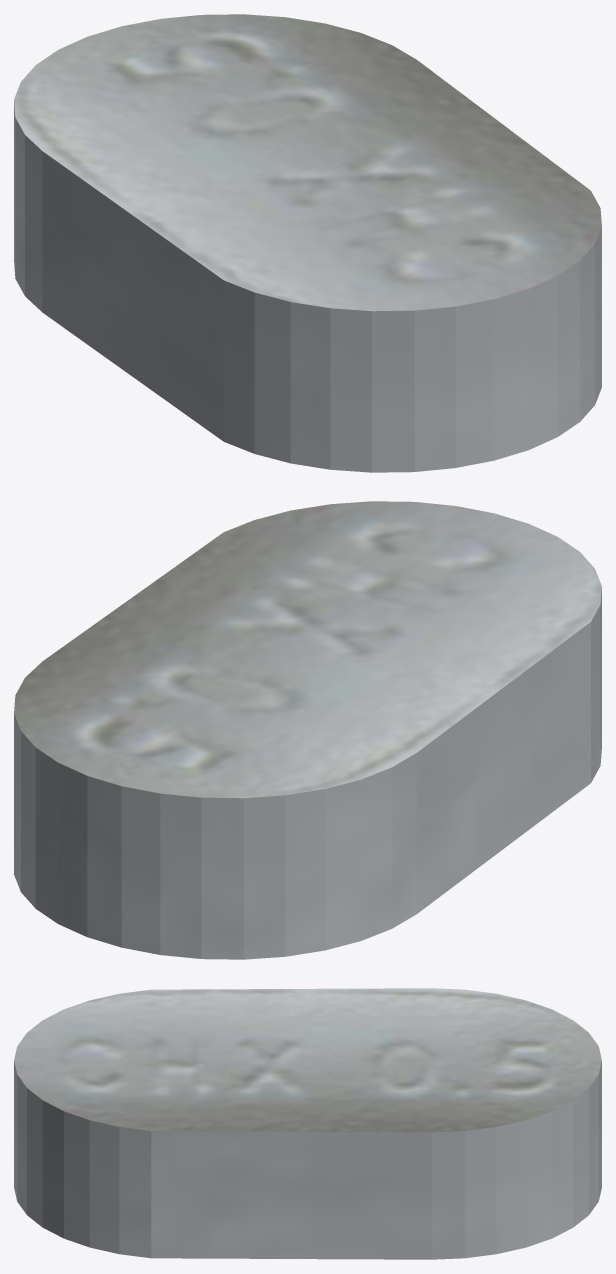
3 renders of one model, top to bottom at view 1: azimuth 30°, elevation 25°; view 2: azimuth 150°, elevation 25°; view 3: azimuth 270°, elevation 25°, orthographic. The views are drawn at different scales.
Visible parts, largest first — view 1: 圓柱體; view 2: 圓柱體; view 3: 圓柱體.
Part boxes in pixels (box(x1,y1,x2,y2)): 圓柱體: box(14, 14, 601, 472); 圓柱體: box(14, 501, 601, 959); 圓柱體: box(14, 988, 601, 1259).
Bounding box in the file's own units: 1.7 × 0.7007 × 2.93.
1 material, 1 textured.
